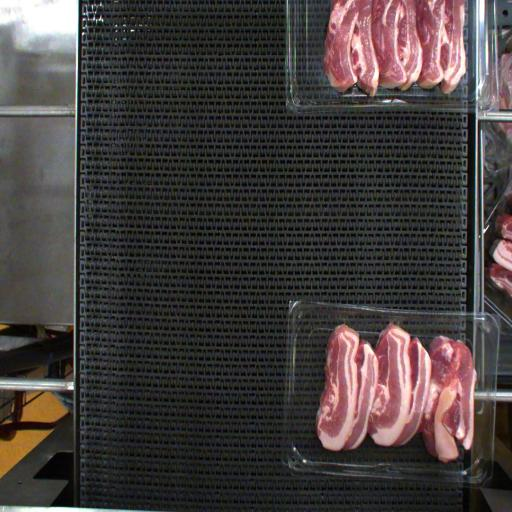packaging-error: (386, 316, 406, 330)
